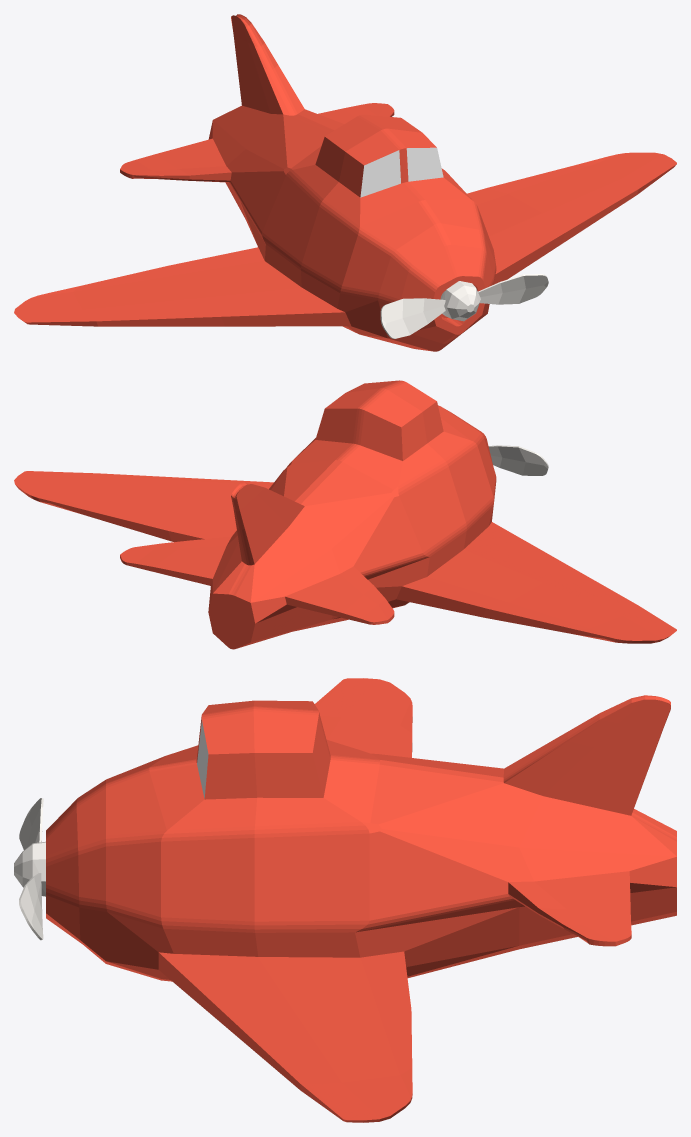
File: airplane.glb
3 renders of one model, top to bottom at view 1: azimuth 30°, elevation 25°; view 2: azimuth 150°, elevation 25°; view 3: azimuth 270°, elevation 25°, orthographic. The views are drawn at different scales.
Parts seen in each view (by area): view 1: planeBody.bevel, propeller.bevel; view 2: planeBody.bevel, propeller.bevel; view 3: planeBody.bevel, propeller.bevel.
Part boxes in pixels (<box>): planeBody.bevel: <box>14,14,676,351</box>; propeller.bevel: <box>380,274,548,338</box>; planeBody.bevel: <box>14,380,676,649</box>; propeller.bevel: <box>488,445,548,475</box>; planeBody.bevel: <box>46,678,676,1122</box>; propeller.bevel: <box>14,798,45,940</box>.
Size of the model in its own units: 3.15 by 0.9677 by 2.
